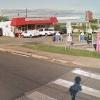Crosswalk: (22, 72, 95, 99)
